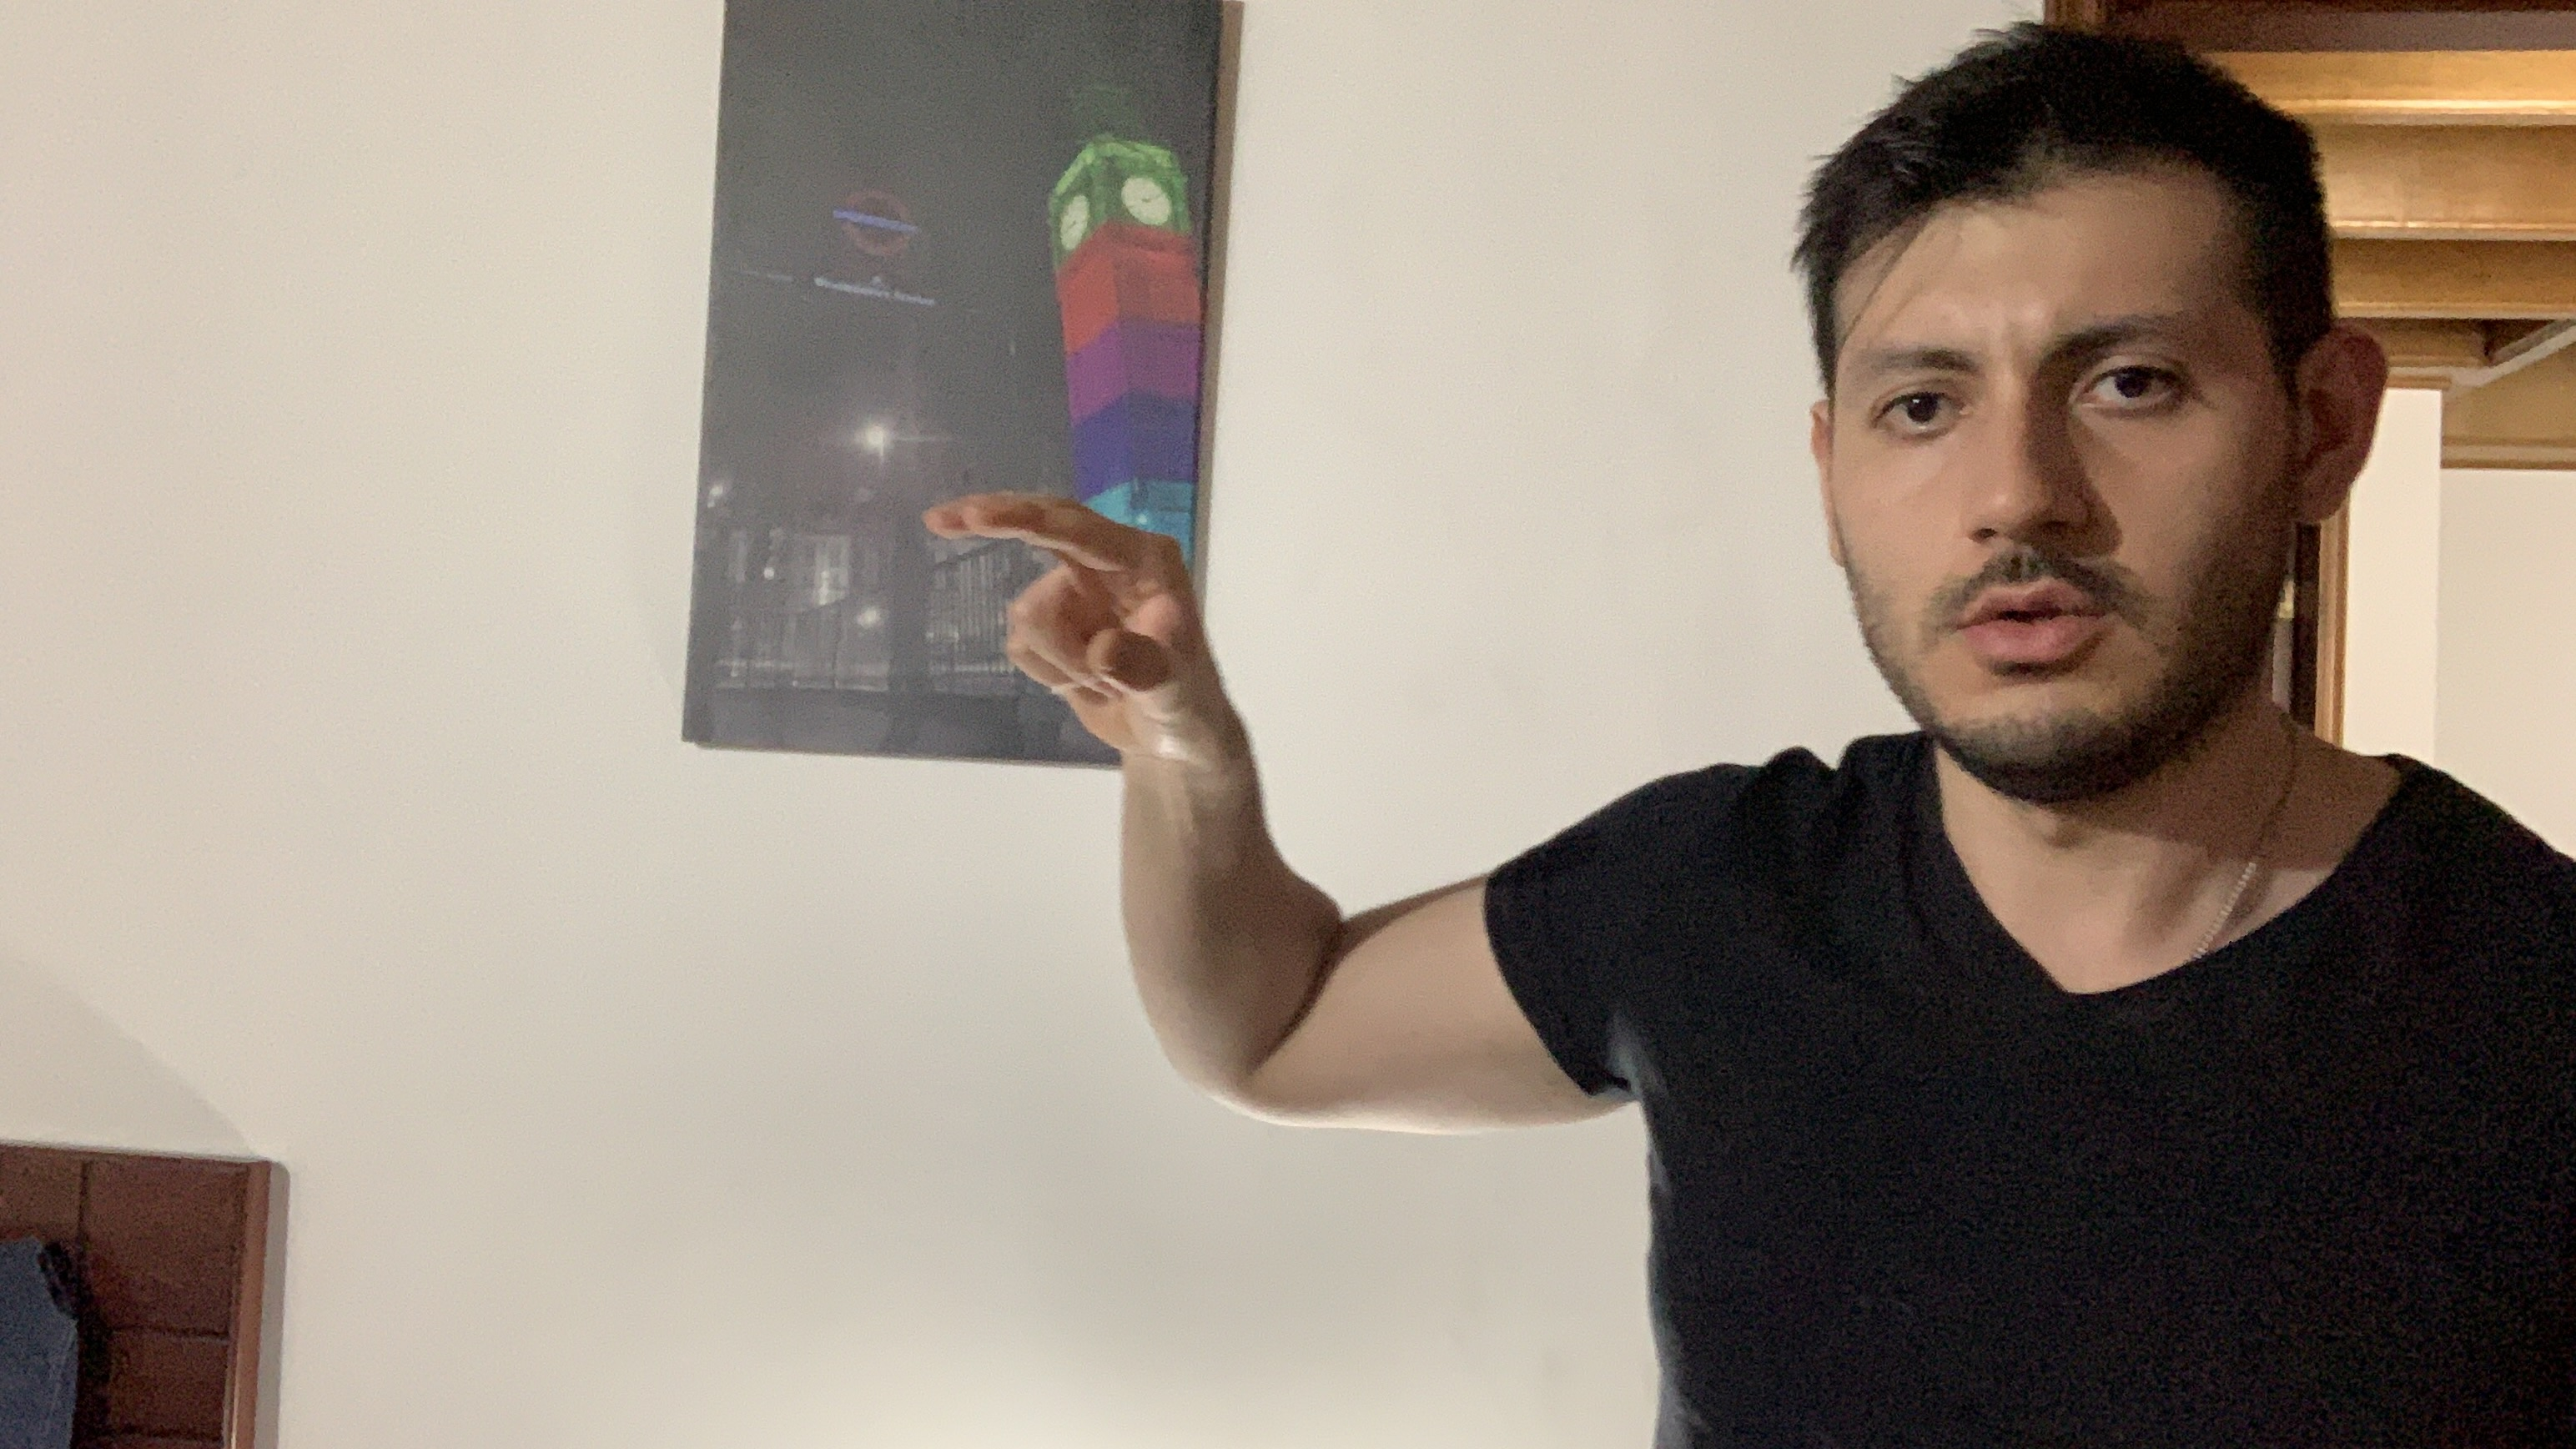No: (902, 485, 1323, 770)
